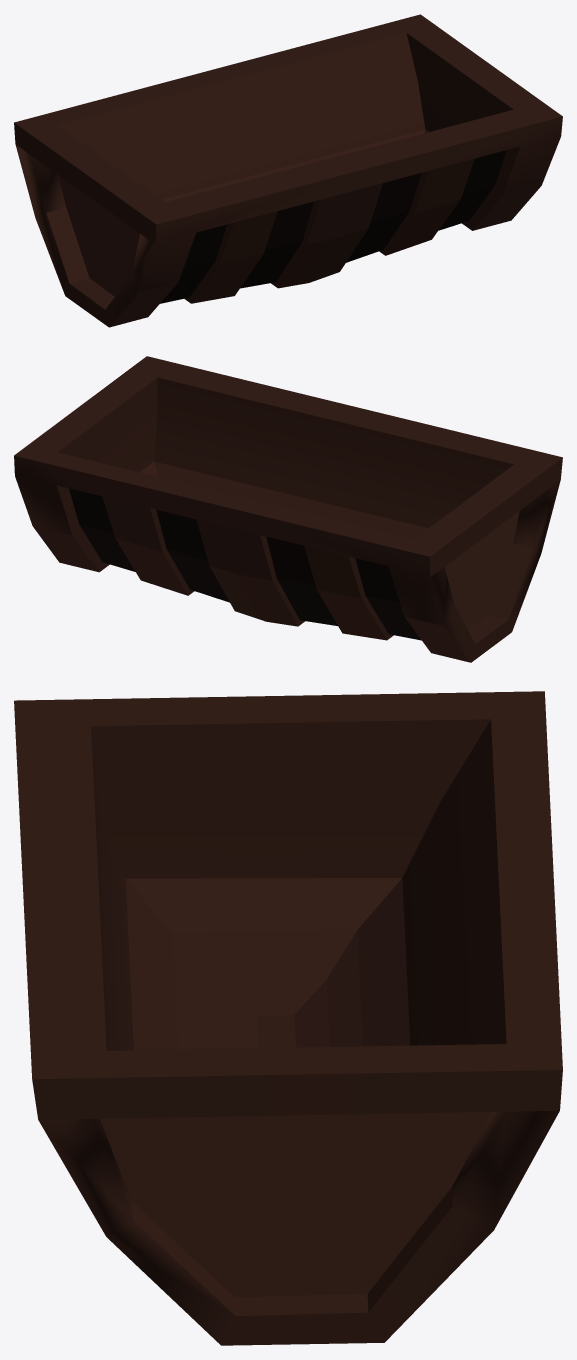
File: chest_lid.obj
3 renders of one model, top to bottom at view 1: azimuth 30°, elevation 25°; view 2: azimuth 150°, elevation 25°; view 3: azimuth 270°, elevation 25°, orthographic. The views are drawn at different scales.
Parts seen in each view (by area): view 1: obj4.001; view 2: obj4.001; view 3: obj4.001.
Part boxes in pixels (left/top/right/bottom): obj4.001: left=14, top=14, right=562, bottom=327; obj4.001: left=14, top=356, right=562, bottom=662; obj4.001: left=14, top=691, right=562, bottom=1345.
Bounding box in the file's own units: 2.63 × 0.931 × 1.56.
